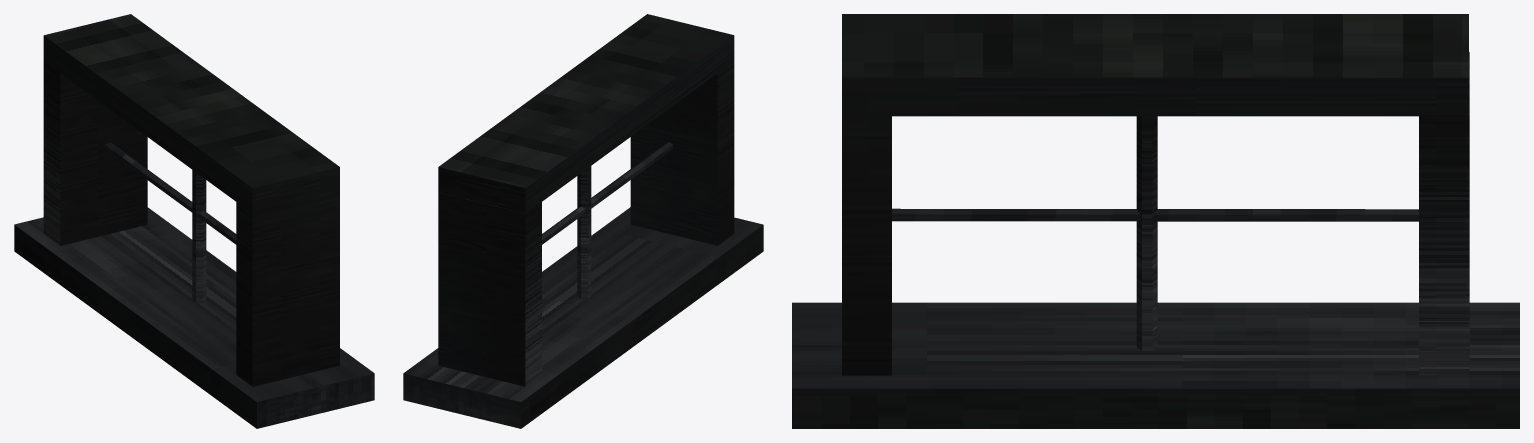
Rendered from window.glb.
The picture shows the model from 3 angles, left to right: view 1: azimuth 30°, elevation 25°; view 2: azimuth 150°, elevation 25°; view 3: azimuth 270°, elevation 25°; orthographic projection. The views are drawn at different scales.
Parts seen in each view (by area): view 1: Cube.001; view 2: Cube.001; view 3: Cube.001.
Part boxes in pixels (x1=…): Cube.001: x1=14, y1=14, x2=374, y2=428; Cube.001: x1=403, y1=14, x2=763, y2=428; Cube.001: x1=792, y1=14, x2=1519, y2=428.
Size of the model in its own units: 3.74 by 6.84 by 13.35.
1 material, 1 textured.
